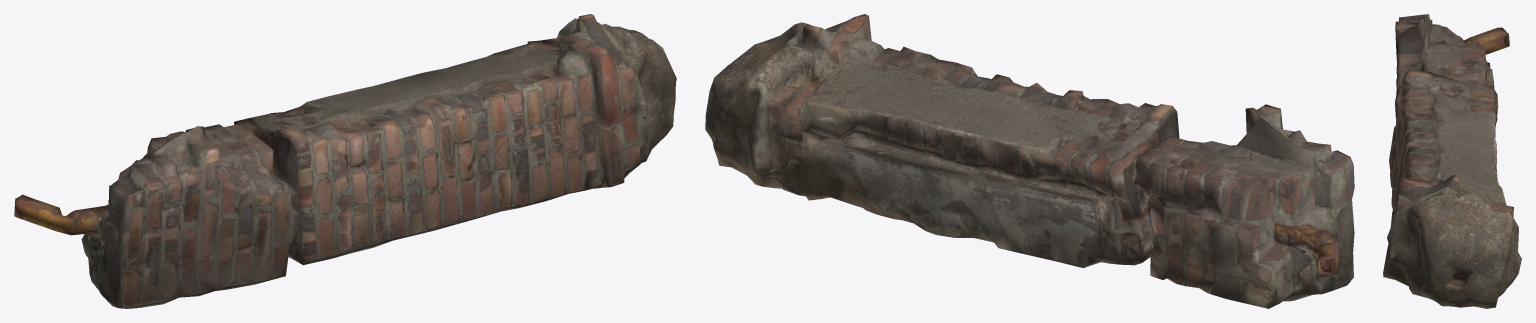
The model's file is PX_Brick_Ruins_21_LOD3.fbx.
3 renders of one model, left to right at view 1: azimuth 30°, elevation 25°; view 2: azimuth 150°, elevation 25°; view 3: azimuth 270°, elevation 25°, orthographic. The views are drawn at different scales.
Visible parts, largest first — view 1: PX_Brick_Ruins_21_LOD3; view 2: PX_Brick_Ruins_21_LOD3; view 3: PX_Brick_Ruins_21_LOD3.
Boxes of the visible parts, bbox=[...] form: PX_Brick_Ruins_21_LOD3: bbox=[14, 14, 676, 308]; PX_Brick_Ruins_21_LOD3: bbox=[705, 14, 1354, 308]; PX_Brick_Ruins_21_LOD3: bbox=[1383, 14, 1521, 308].
Size of the model in its own units: 259 by 63.61 by 63.85.
